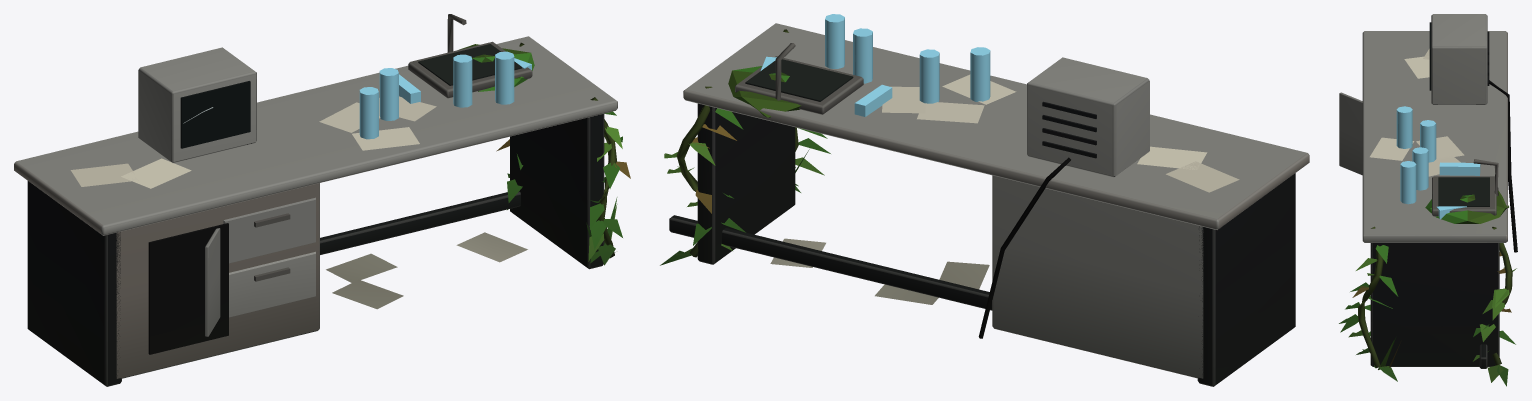
The model's file is lab_bench.glb.
3 renders of one model, left to right at view 1: azimuth 30°, elevation 25°; view 2: azimuth 150°, elevation 25°; view 3: azimuth 270°, elevation 25°, orthographic. The views are drawn at different scales.
Visible parts, largest first — view 1: Mesh; view 2: Mesh; view 3: Mesh.
Boxes of the visible parts, x1=… form: Mesh: x1=14, y1=14, x2=630, y2=386; Mesh: x1=660, y1=14, x2=1309, y2=386; Mesh: x1=1339, y1=14, x2=1517, y2=386.
Size of the model in its own units: 3.15 by 1.4 by 1.11.
